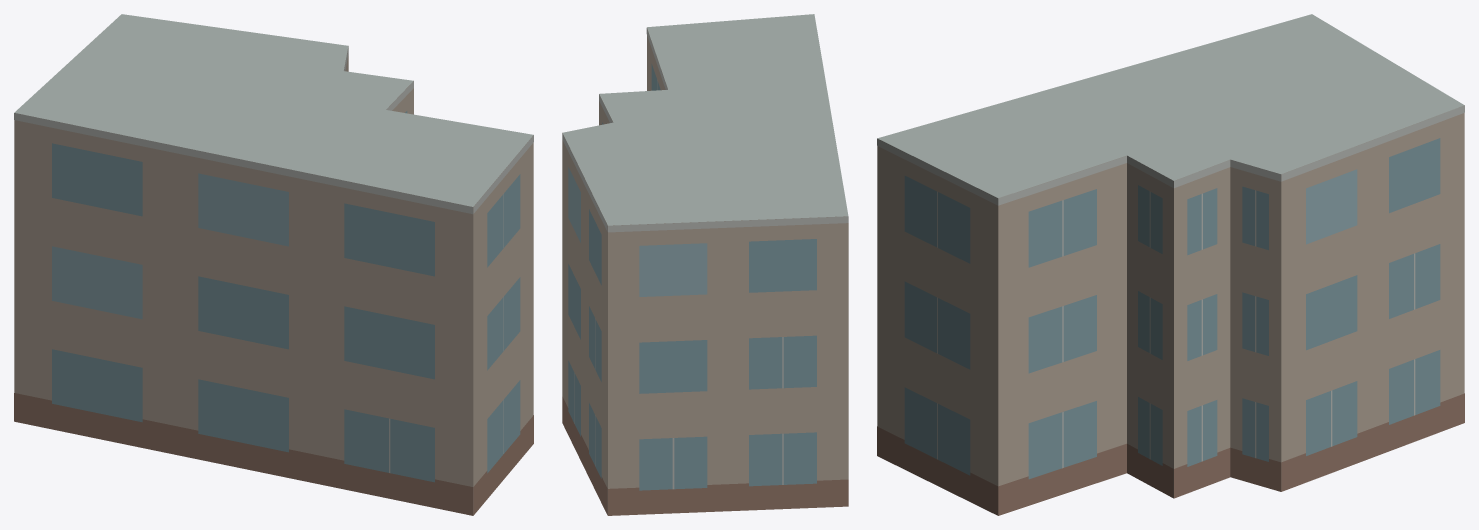
File: survey-upis-32764258.glb
The picture shows the model from 3 angles, left to right: view 1: azimuth 30°, elevation 25°; view 2: azimuth 150°, elevation 25°; view 3: azimuth 270°, elevation 25°; orthographic projection. The views are drawn at different scales.
Visible parts, largest first — view 1: survey-upis-32764258.tmp; view 2: survey-upis-32764258.tmp; view 3: survey-upis-32764258.tmp.
Part boxes in pixels (x1,y1,x2,y2): survey-upis-32764258.tmp: [14, 14, 533, 515]; survey-upis-32764258.tmp: [562, 14, 848, 515]; survey-upis-32764258.tmp: [877, 14, 1464, 515].
Size of the model in its own units: 12.95 by 10.4 by 17.45.
